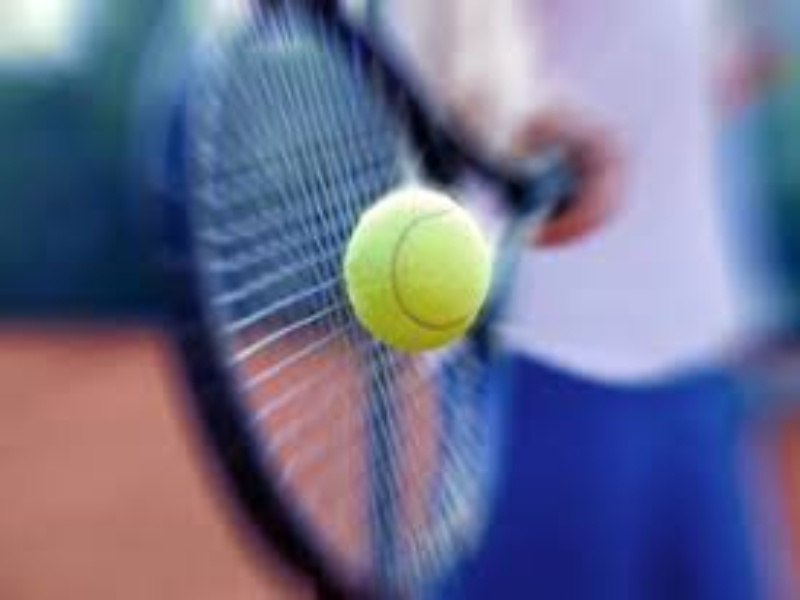tennis ball: (335, 183, 498, 365)
